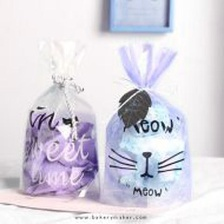snack: (90, 35, 196, 213), (10, 31, 106, 206)
